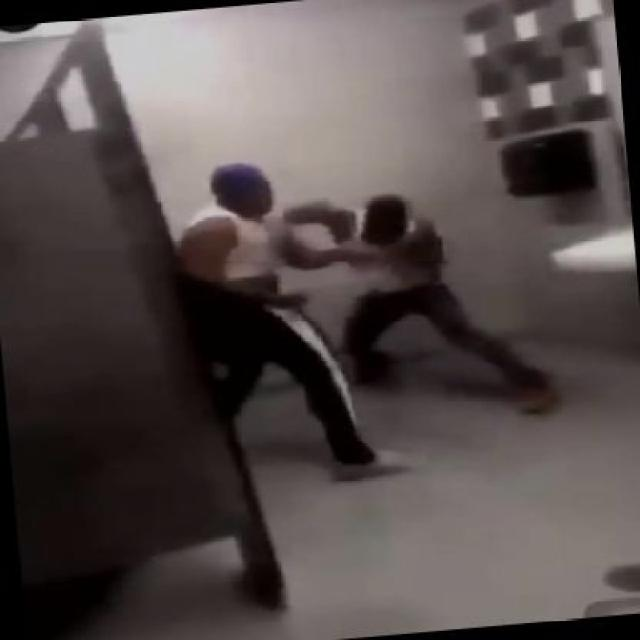fight: (156, 136, 565, 498)
